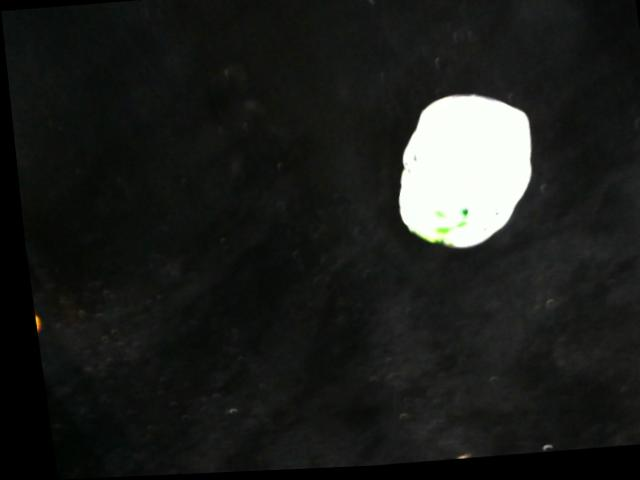can: (382, 89, 537, 259)
